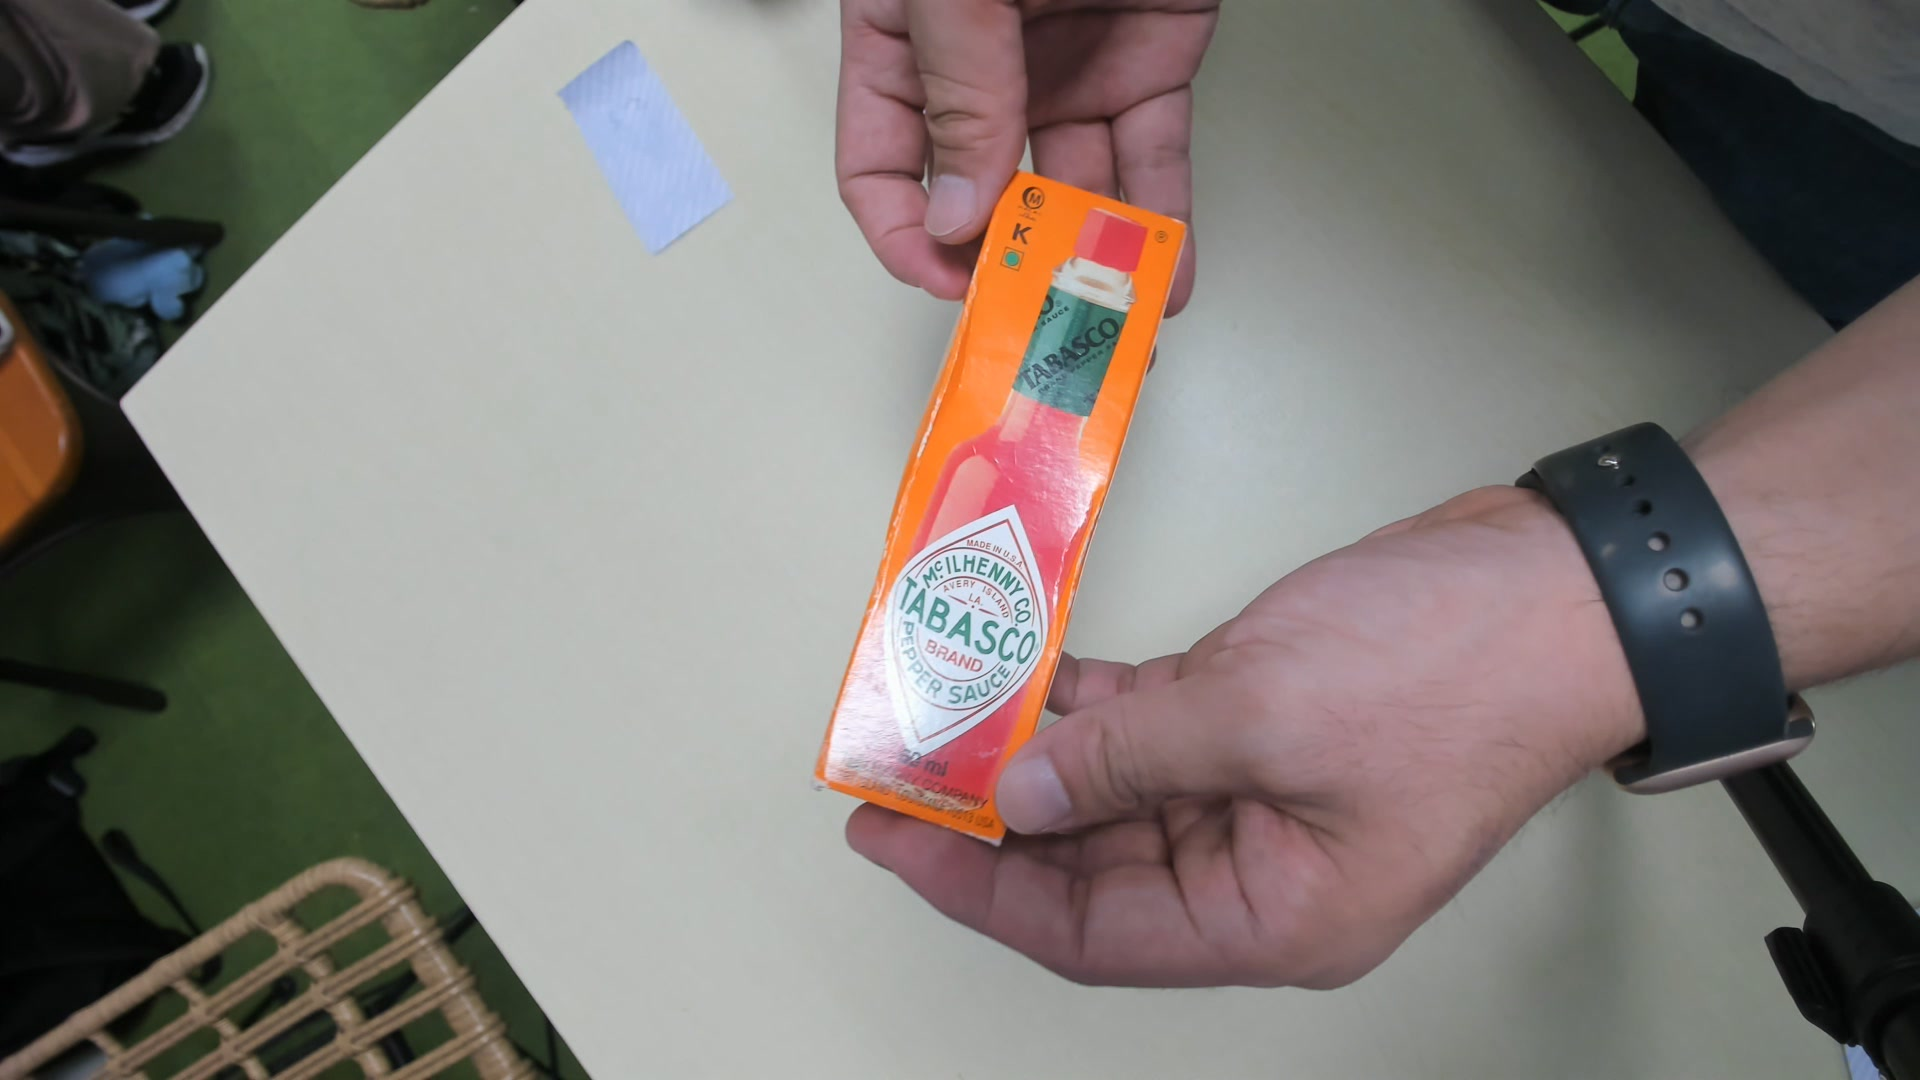KetchupChillSauce_0-99g_NonHalal_NonHealthy: (822, 162, 1187, 858)
